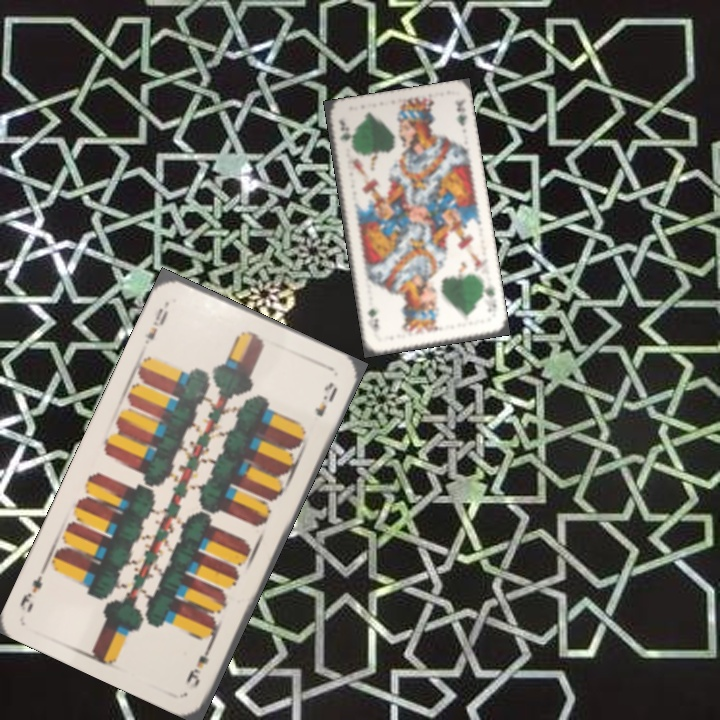E9: (181, 637, 216, 693), (142, 304, 171, 343)
GK: (478, 280, 500, 309), (335, 115, 352, 143)
